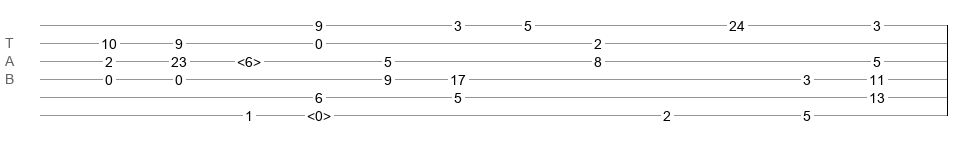0: (105, 72, 113, 82), (175, 72, 183, 82), (315, 36, 323, 46)
1: (245, 108, 253, 118)
10: (101, 36, 117, 46)
11: (869, 72, 885, 82)
13: (869, 90, 885, 100)
17: (450, 72, 466, 82)
2: (105, 54, 113, 64), (594, 36, 602, 46), (663, 108, 671, 118)
23: (171, 54, 187, 64)
24: (729, 18, 745, 28)
3: (454, 18, 462, 28), (803, 72, 811, 82), (873, 18, 881, 28)
5: (384, 54, 392, 64), (454, 90, 462, 100), (524, 18, 532, 28), (803, 108, 811, 118), (873, 54, 881, 64)
6: (315, 90, 323, 100)
8: (594, 54, 602, 64)
9: (175, 36, 183, 46), (315, 18, 323, 28), (384, 72, 392, 82)
harmonic: (237, 54, 261, 64), (307, 108, 331, 118)
